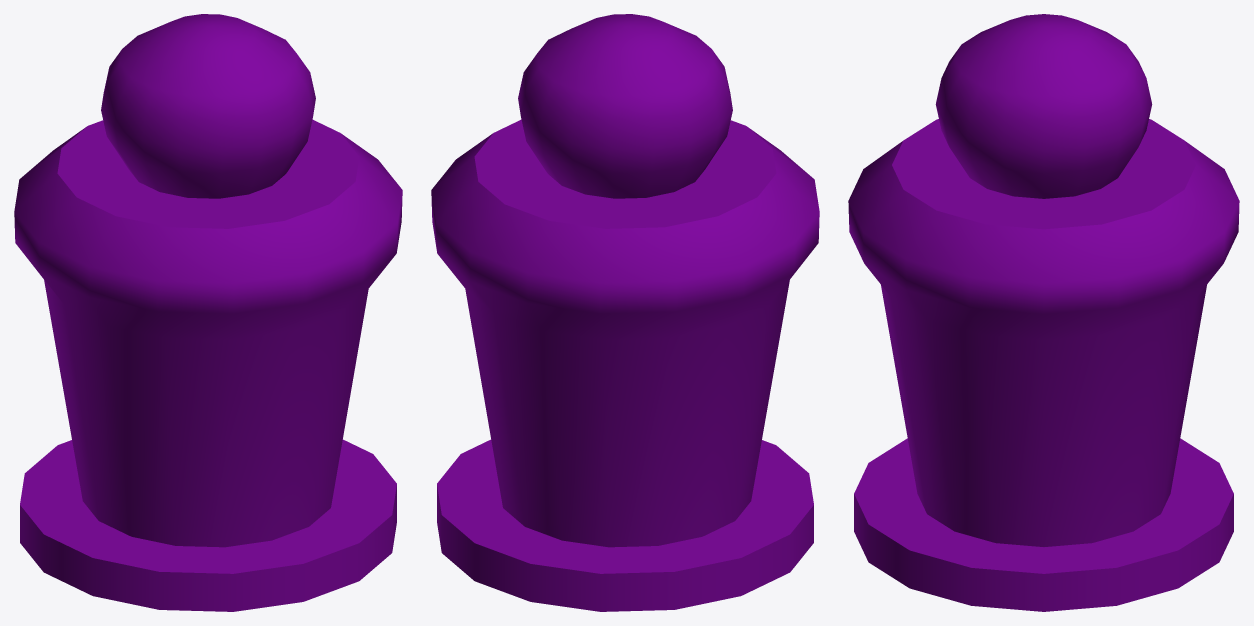
File: Witch.fbx
The picture shows the model from 3 angles, left to right: view 1: azimuth 30°, elevation 25°; view 2: azimuth 150°, elevation 25°; view 3: azimuth 270°, elevation 25°; orthographic projection.
Parts seen in each view (by area): view 1: Witch; view 2: Witch; view 3: Witch.
Part boxes in pixels (x1,y1,x2,y2): Witch: (14,14,402,611); Witch: (431,14,819,611); Witch: (848,14,1239,611).
Bounding box in the file's own units: 1.49 × 2.13 × 1.49.
